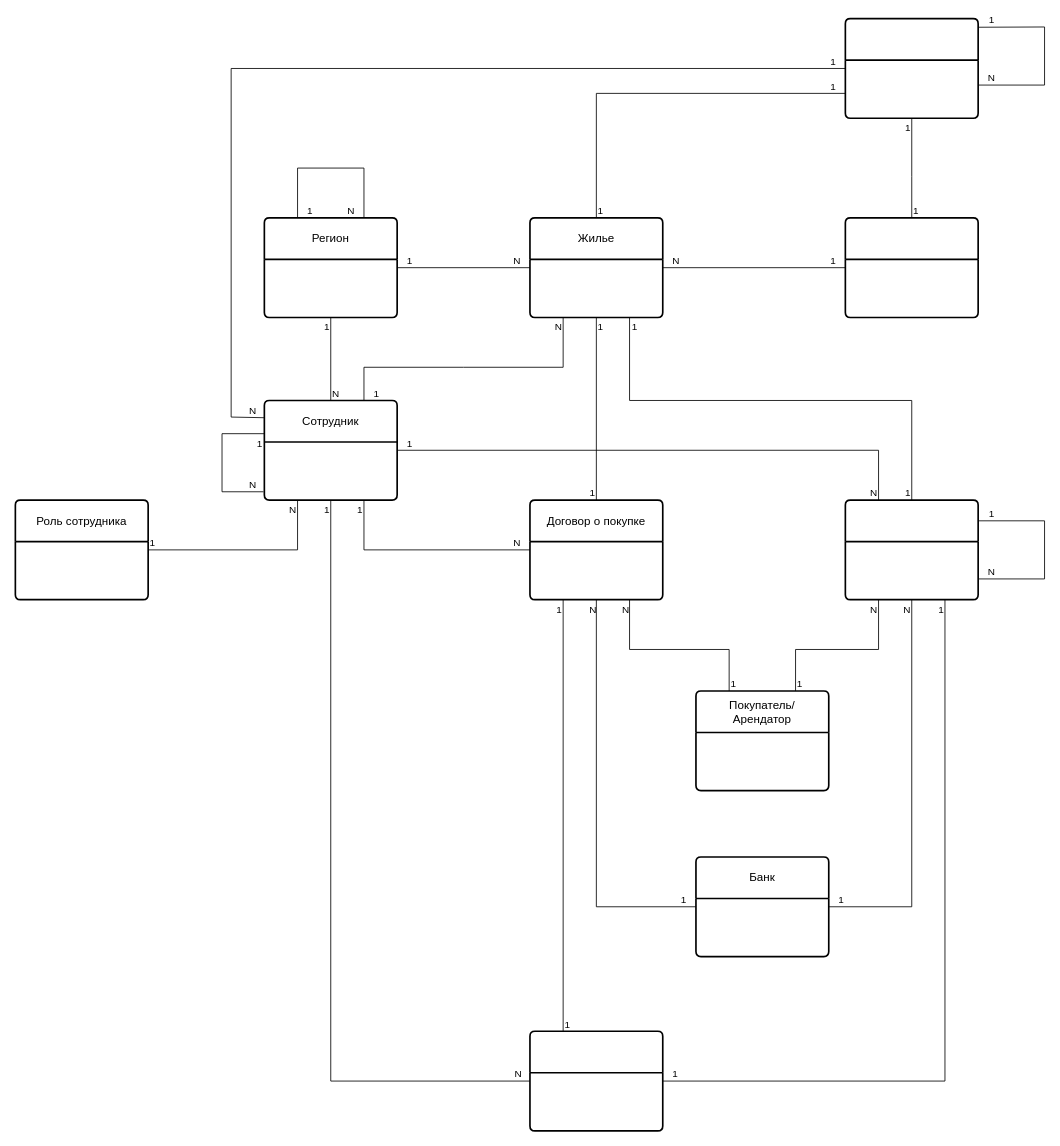
This 1060x1146 diagram has some shape labels left out. The shapes that lost their labels are listed below. From the top down, each one's centre as x and y in pixels, then its label:
(x=911, y=68): Договор о сотрудничестве с агенством
(x=911, y=267): Продавец/Арендодатель
(x=911, y=549): Договор об аренде
(x=596, y=1080): Платежный документ
